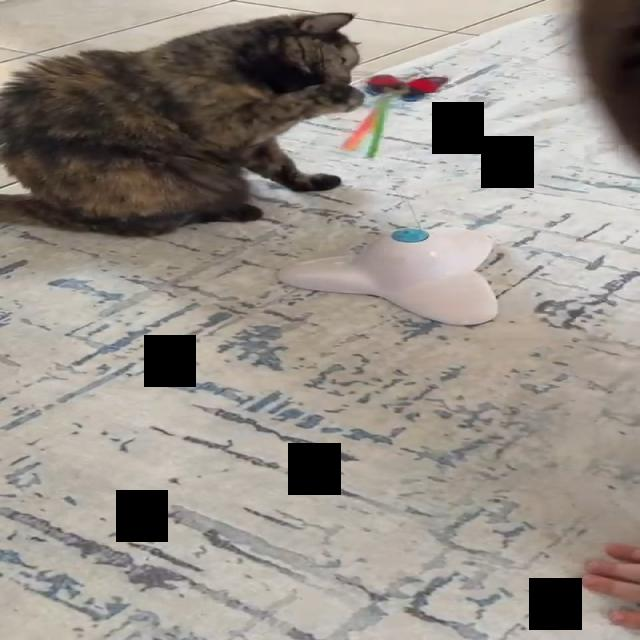authorized: (0, 10, 365, 237)
